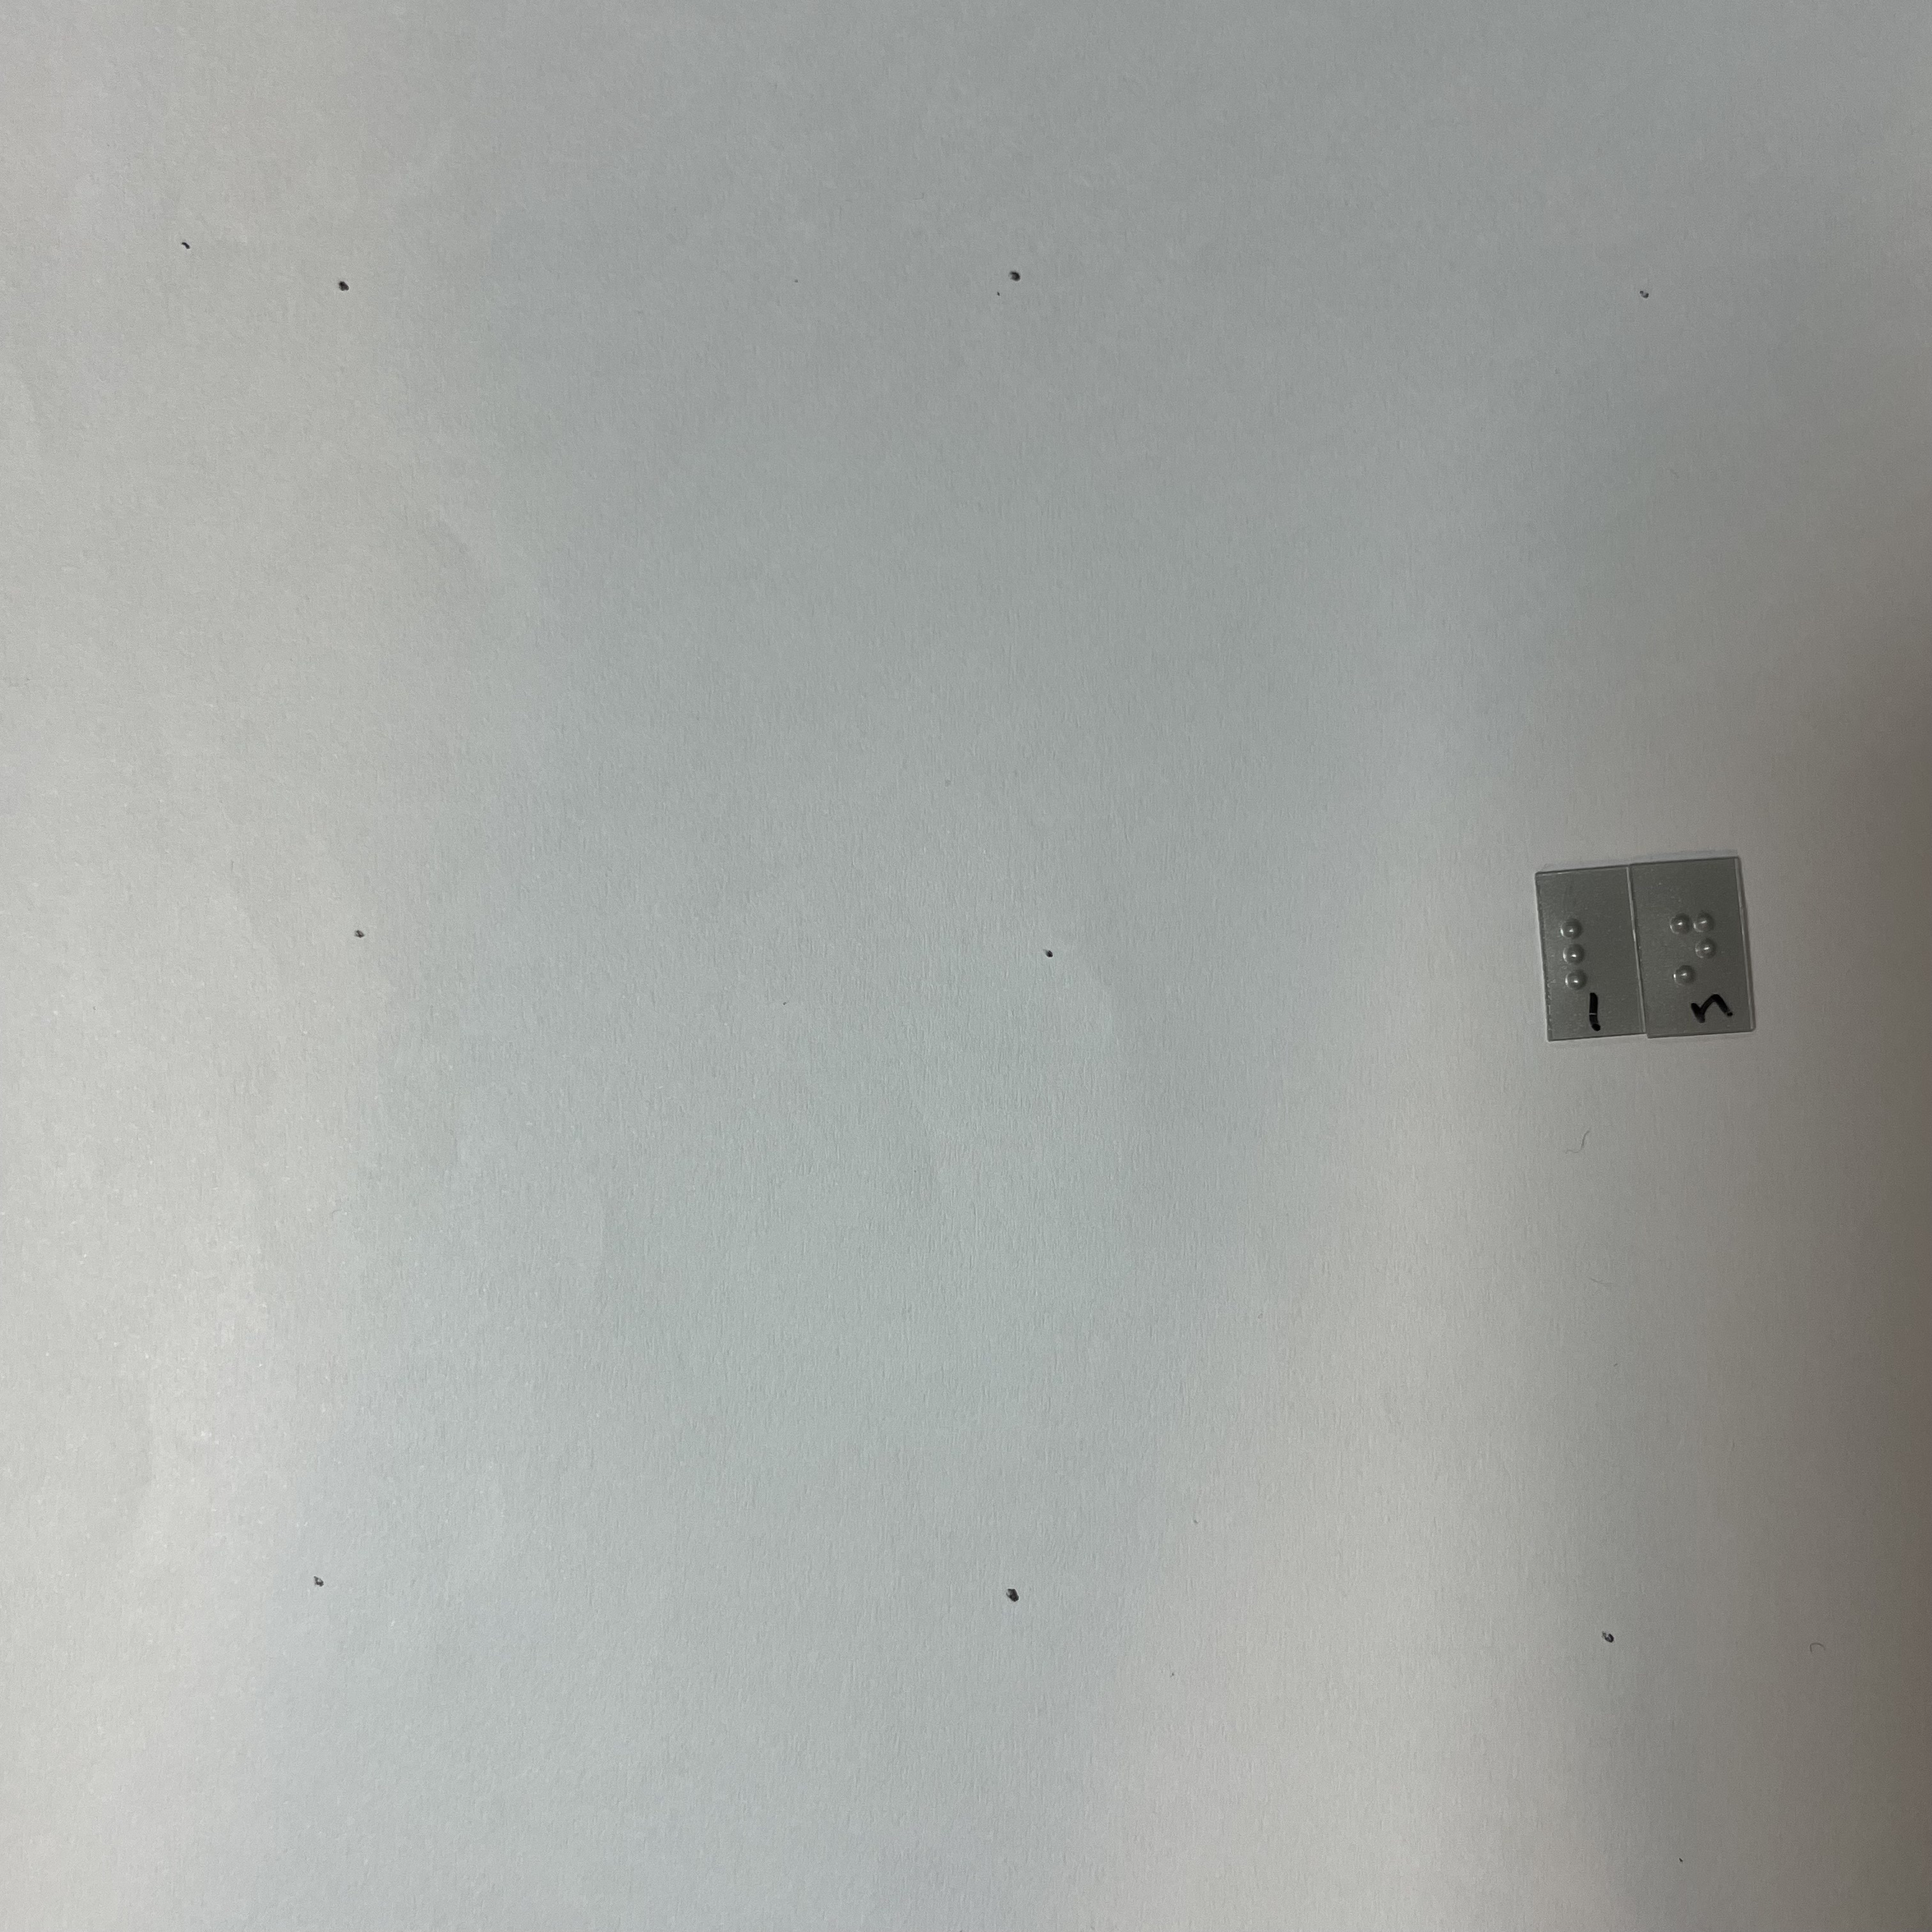l: (1554, 910, 1620, 995)
n: (1657, 894, 1730, 989)
